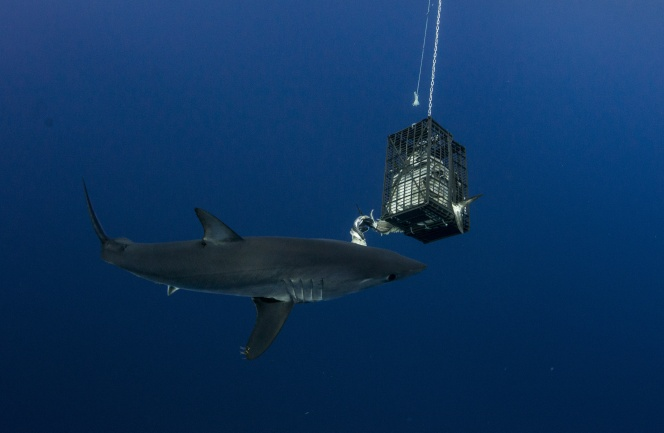Mako: (62, 167, 429, 374)
